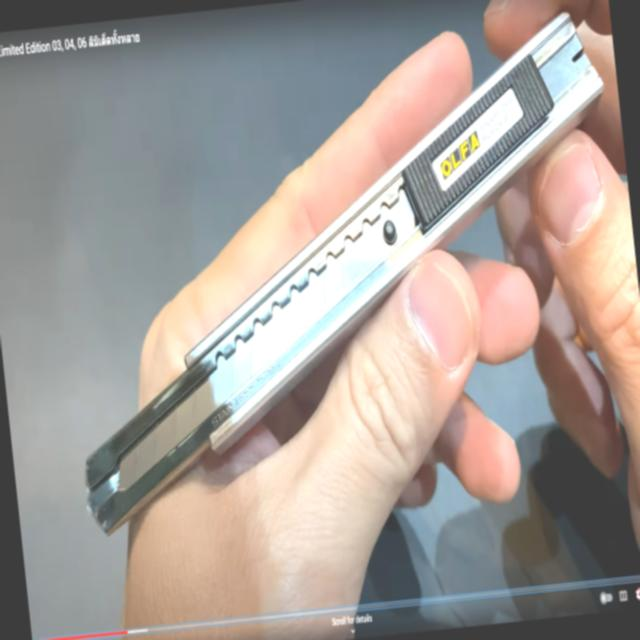cutter: (36, 2, 640, 540)
